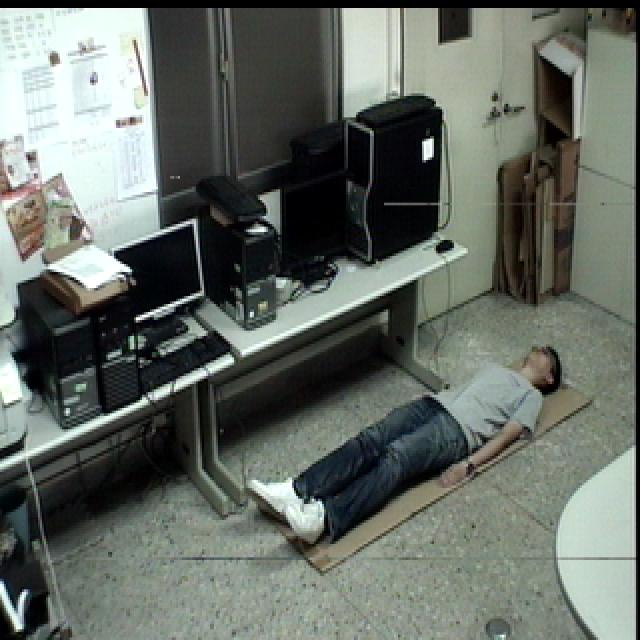lie: (241, 329, 569, 552)
